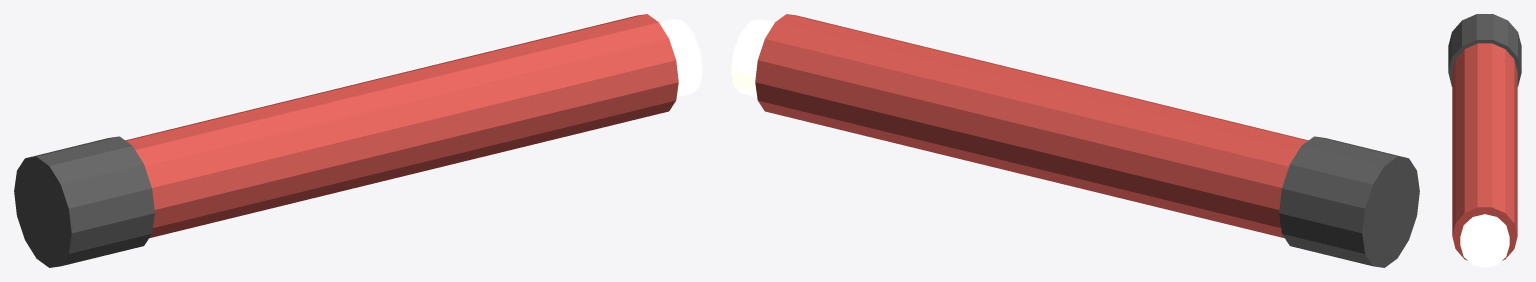
Rendered from Loot_Flare.fbx.
The picture shows the model from 3 angles, left to right: view 1: azimuth 30°, elevation 25°; view 2: azimuth 150°, elevation 25°; view 3: azimuth 270°, elevation 25°; orthographic projection. The views are drawn at different scales.
Parts seen in each view (by area): view 1: Loot_Flare; view 2: Loot_Flare; view 3: Loot_Flare.
Part boxes in pixels (bbox=[...]): Loot_Flare: bbox=[14, 14, 702, 267]; Loot_Flare: bbox=[731, 14, 1419, 267]; Loot_Flare: bbox=[1448, 14, 1521, 267].
Bounding box in the file's own units: 0.231 × 0.0351 × 0.036.
